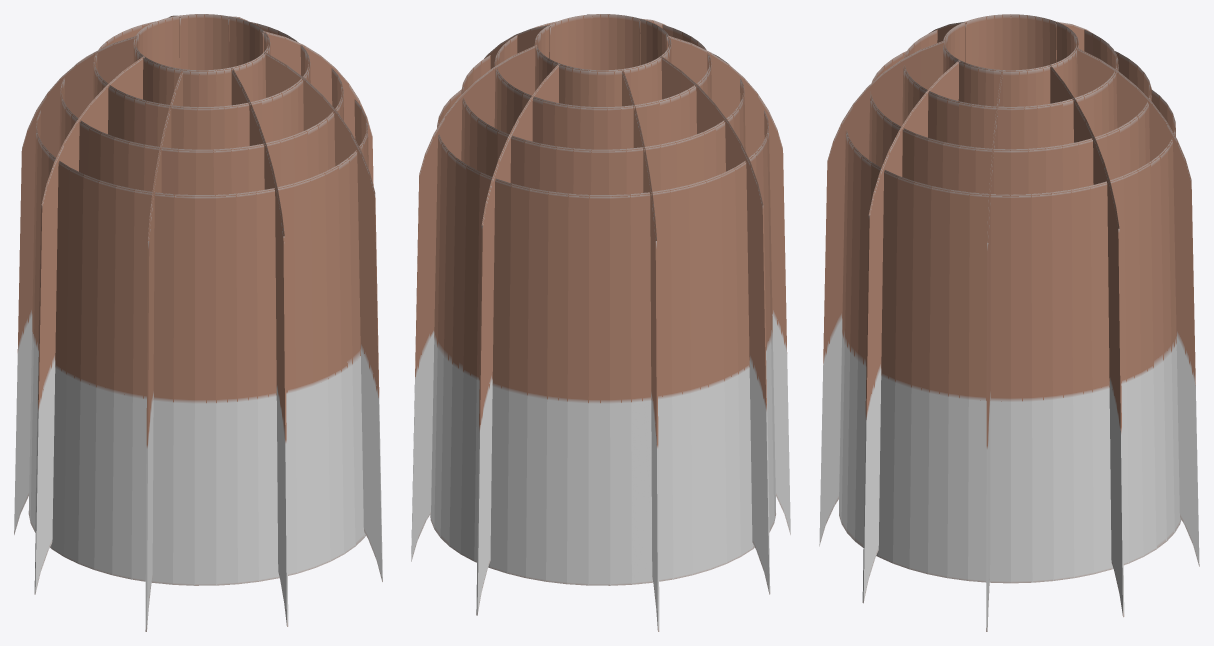
Rendered from godrays.obj.
The picture shows the model from 3 angles, left to right: view 1: azimuth 30°, elevation 25°; view 2: azimuth 150°, elevation 25°; view 3: azimuth 270°, elevation 25°; orthographic projection.
Visible parts, largest first — view 1: polySurface2; view 2: polySurface2; view 3: polySurface2.
Boxes of the visible parts, x1,y1,x2,y2 form: polySurface2: (14, 14, 382, 631); polySurface2: (411, 14, 790, 631); polySurface2: (819, 14, 1199, 631).
Size of the model in its own units: 9.67 by 14.21 by 9.62.
1 material, 1 textured.
